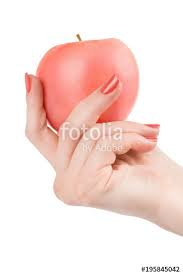hand: (11, 70, 170, 222)
